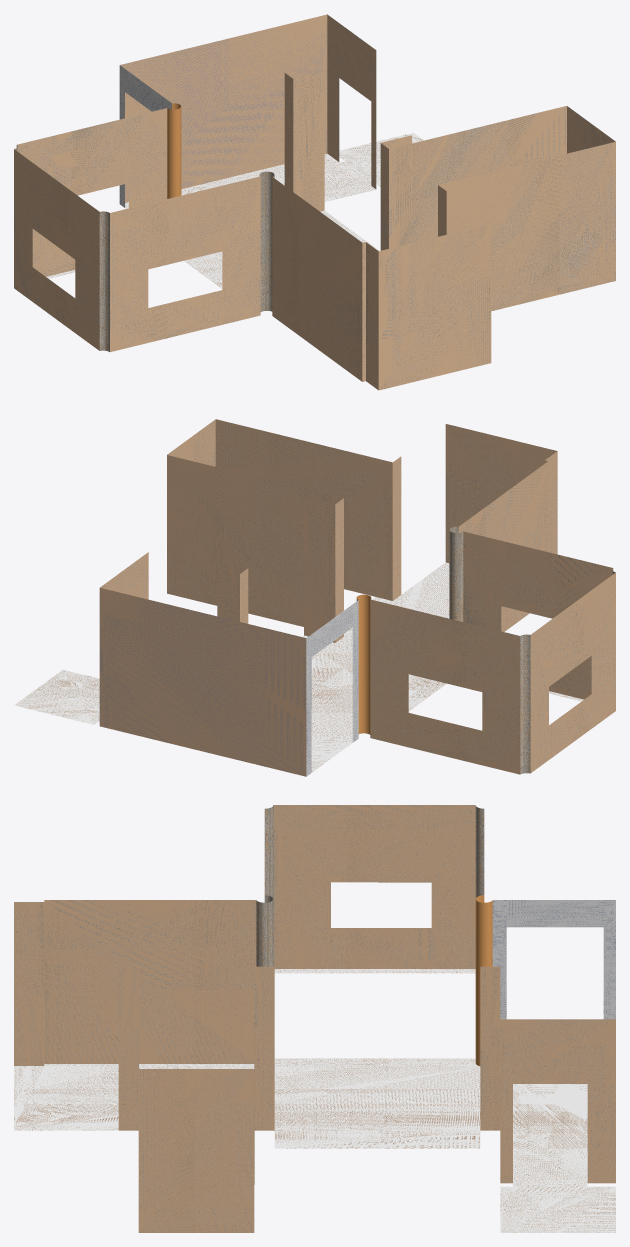
The model's file is COM039.obj.
The picture shows the model from 3 angles, top to bottom: view 1: azimuth 30°, elevation 25°; view 2: azimuth 150°, elevation 25°; view 3: azimuth 270°, elevation 25°; orthographic projection. The views are drawn at different scales.
Visible parts, largest first — view 1: Mesh1 COM039 Model; view 2: Mesh1 COM039 Model; view 3: Mesh1 COM039 Model.
Boxes of the visible parts, x1,y1,x2,y2 form: Mesh1 COM039 Model: [14, 14, 615, 390]; Mesh1 COM039 Model: [14, 419, 615, 776]; Mesh1 COM039 Model: [14, 805, 615, 1232].
Size of the model in its own units: 12.42 by 3.6 by 11.97.
Materials: 6 (2 with a texture image).
